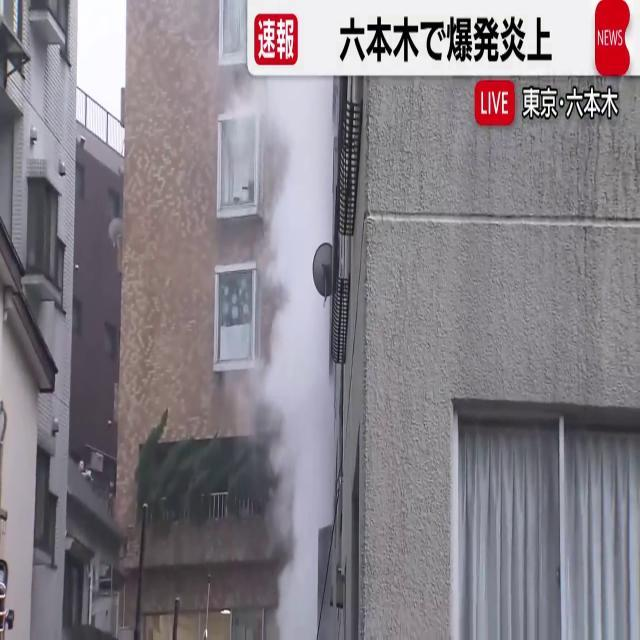Smoke: (240, 86, 336, 622)
